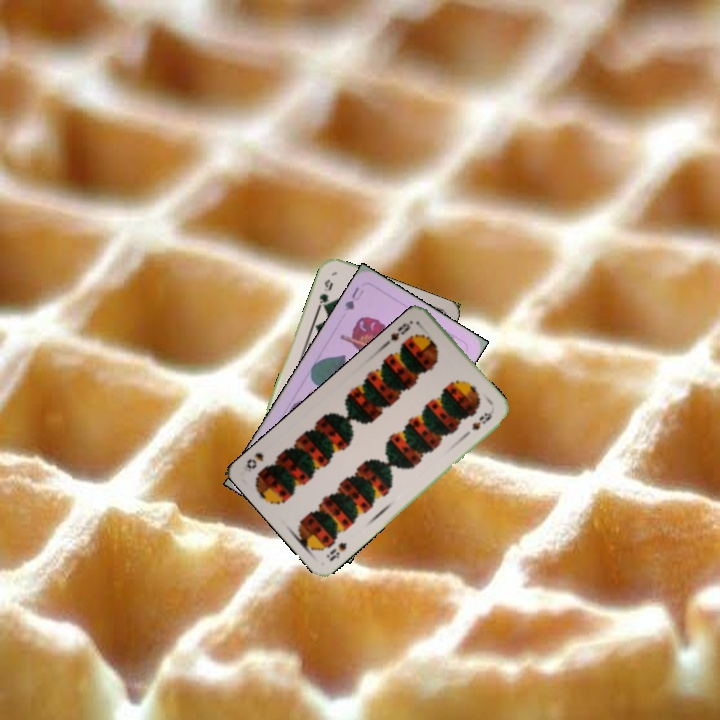G9: (314, 275, 336, 312)
GU: (341, 283, 366, 313)
S8: (322, 538, 350, 564), (387, 319, 413, 344)
